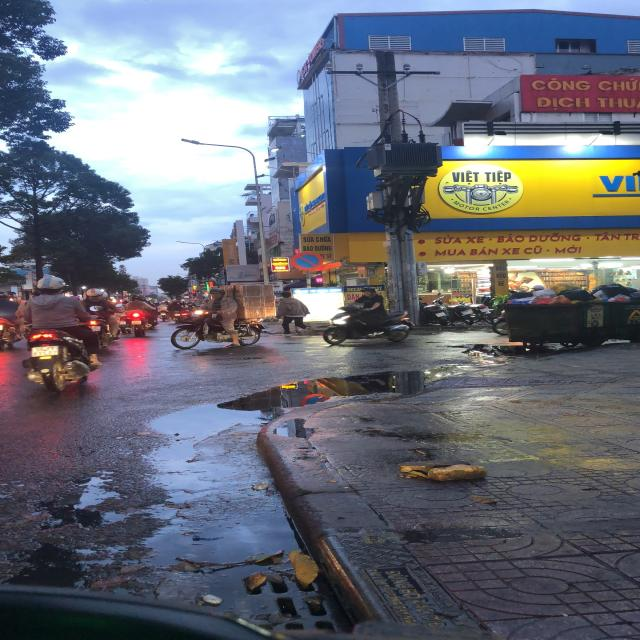Bien bao cam do xe: (288, 250, 328, 272)
